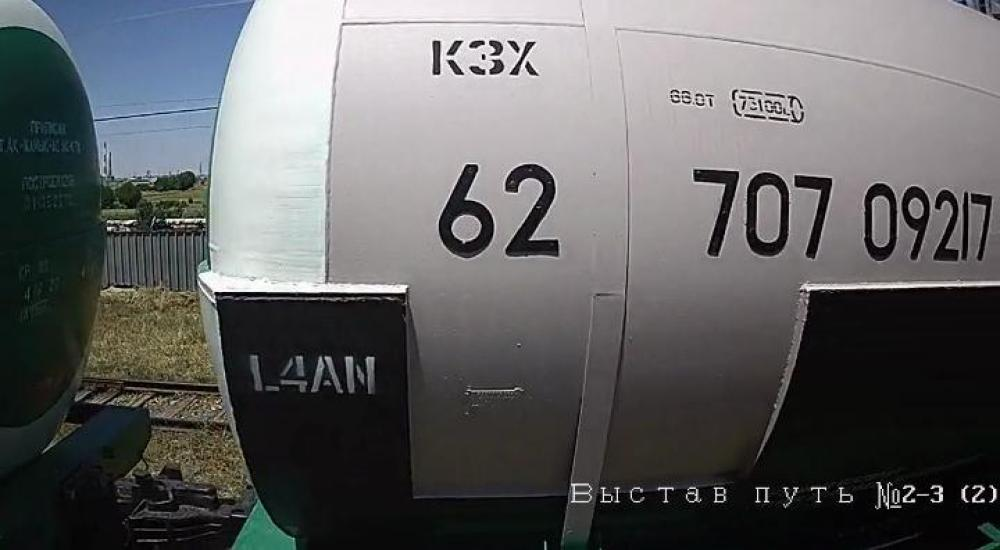Wagon-number: (687, 164, 993, 268)
